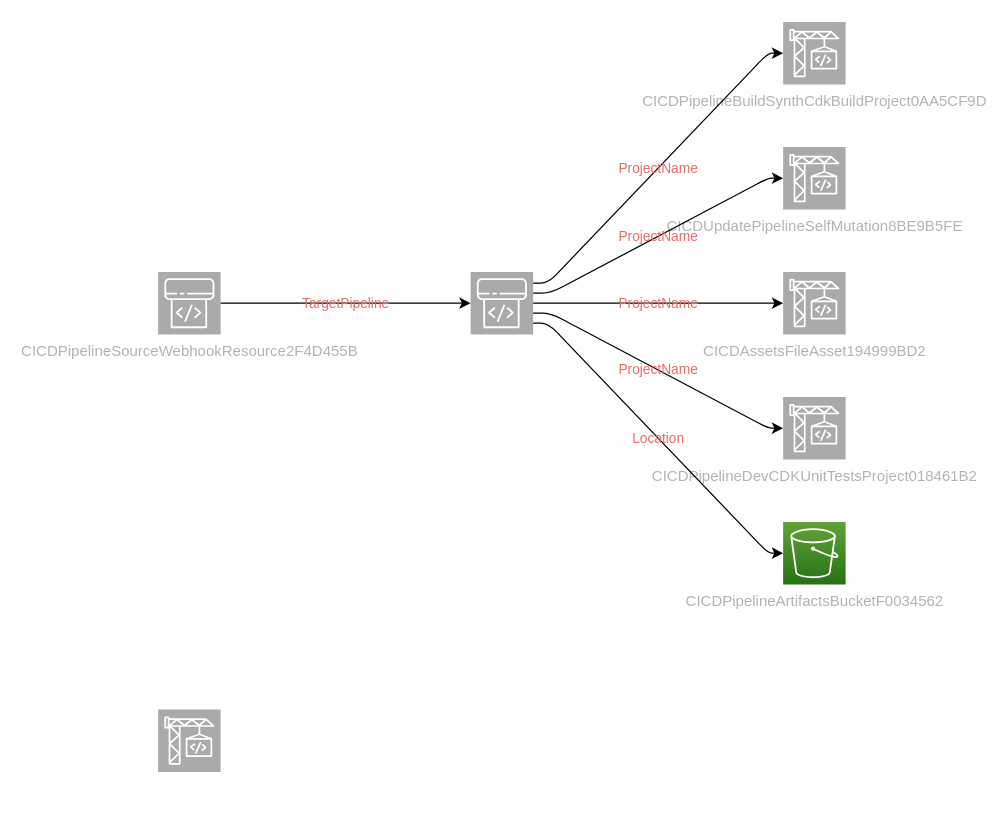
This 1008x820 diagram has some shape labels left out. Here are the shapes that lost their labels. From the top down, the centre of each, then its label:
the point at 501,302: CICDPipeline24C6C0EF
the point at 189,740: PrTriggerProjectC7953F42
